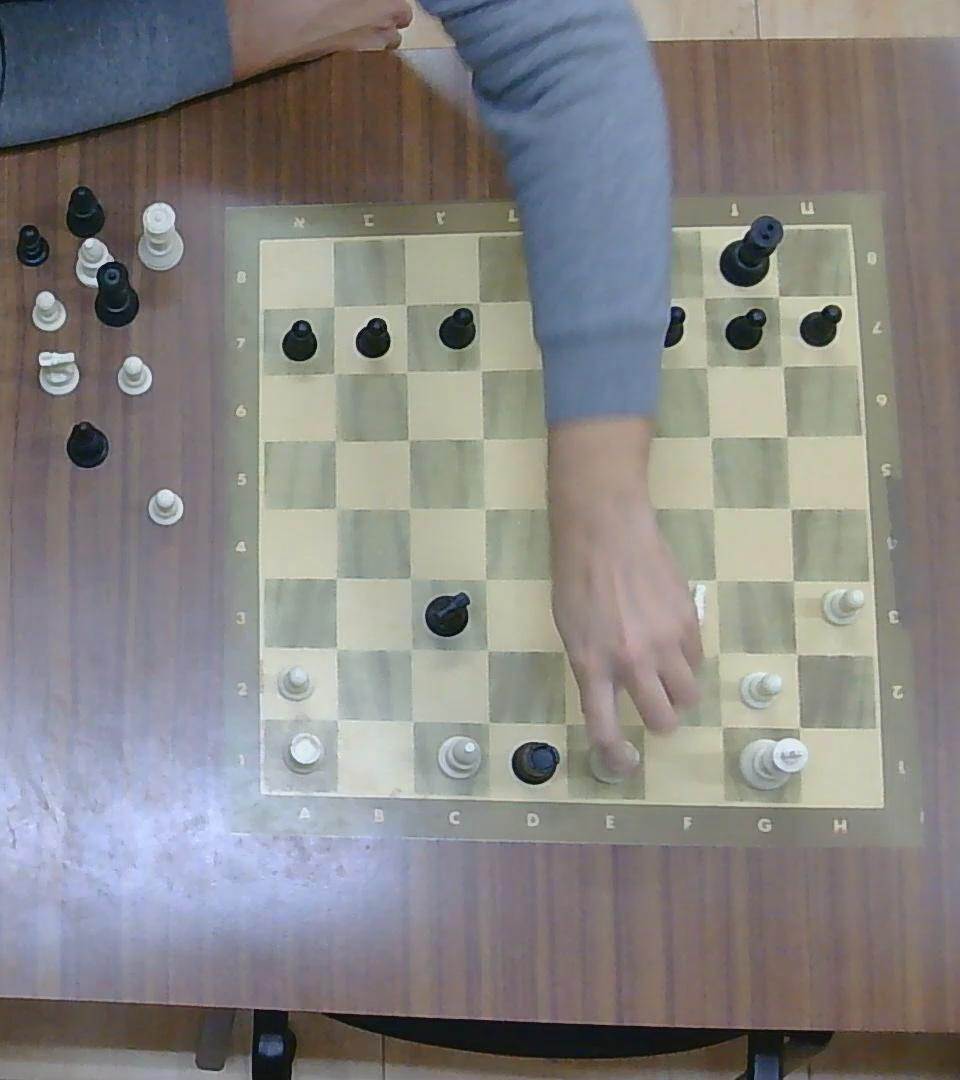xcorner: (781, 710, 815, 743), (549, 705, 581, 739), (705, 708, 736, 742), (703, 637, 735, 669), (780, 637, 812, 669), (776, 564, 808, 596), (616, 354, 648, 386), (471, 704, 502, 736), (396, 704, 427, 736), (320, 701, 351, 733), (394, 633, 425, 665), (544, 493, 575, 525), (628, 709, 658, 741), (625, 490, 655, 522), (628, 636, 657, 669), (320, 561, 350, 592), (320, 632, 350, 663), (548, 634, 578, 665), (628, 566, 657, 598), (617, 282, 646, 314), (471, 634, 501, 664), (701, 565, 731, 595), (470, 563, 499, 594), (699, 491, 728, 521), (776, 493, 806, 522), (395, 563, 424, 593), (623, 421, 651, 452), (321, 424, 350, 453), (767, 351, 796, 380), (471, 491, 499, 521), (395, 493, 423, 522), (395, 424, 423, 453), (322, 493, 350, 522), (467, 353, 495, 382), (772, 421, 801, 449), (689, 282, 717, 311), (542, 564, 570, 593), (538, 421, 564, 452), (465, 286, 493, 314), (693, 351, 720, 380), (538, 286, 565, 315), (698, 421, 725, 449), (320, 291, 348, 318), (471, 422, 497, 451), (393, 357, 420, 384), (539, 352, 565, 380), (321, 360, 349, 385), (766, 281, 791, 309), (393, 290, 419, 316)
